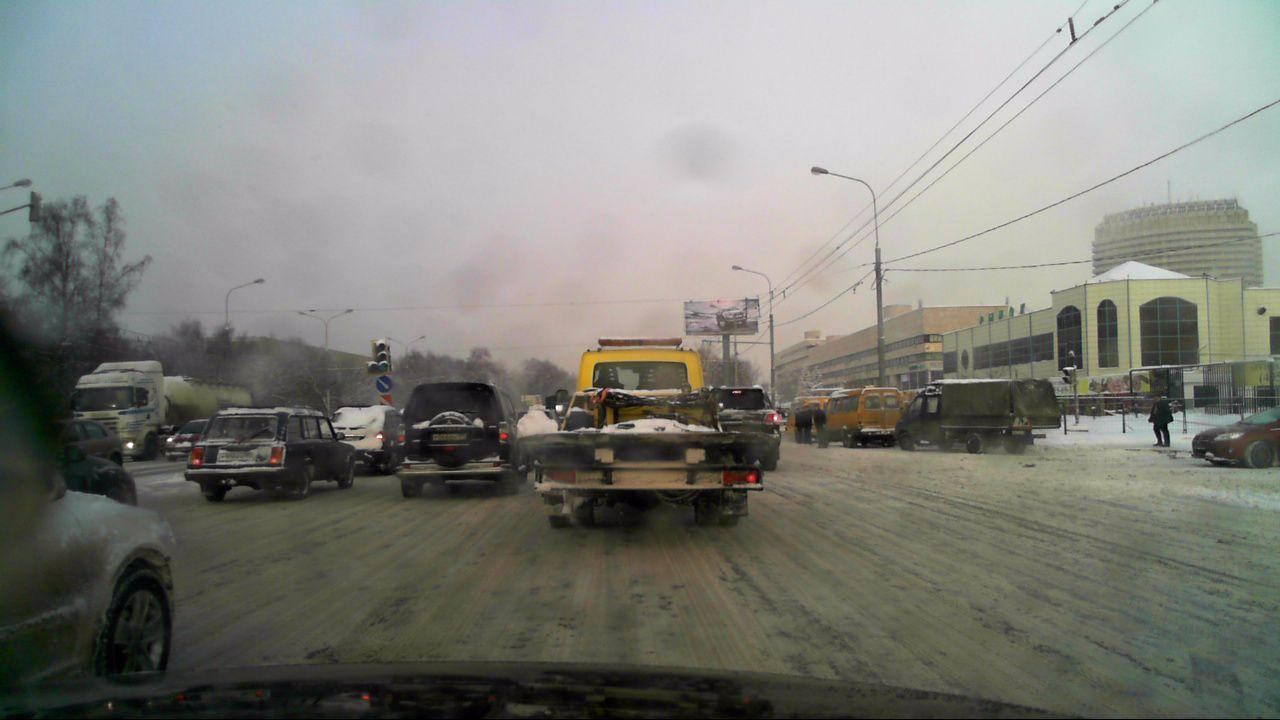off traffic light: (1061, 366, 1074, 385)
road_sign: (376, 376, 394, 393)
traffic light: (366, 340, 392, 375)
